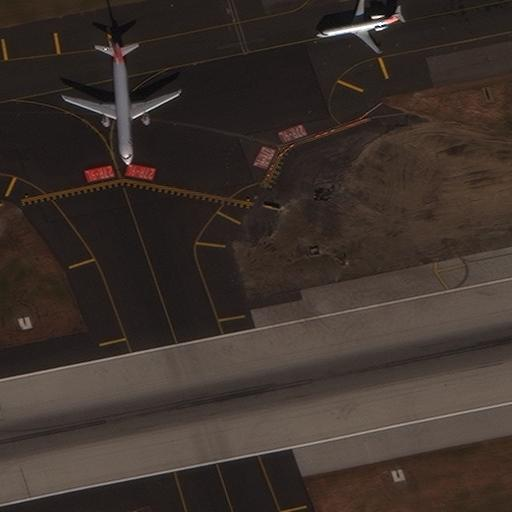Medium Civil Transport: (61, 36, 180, 164), (316, 0, 401, 52)
